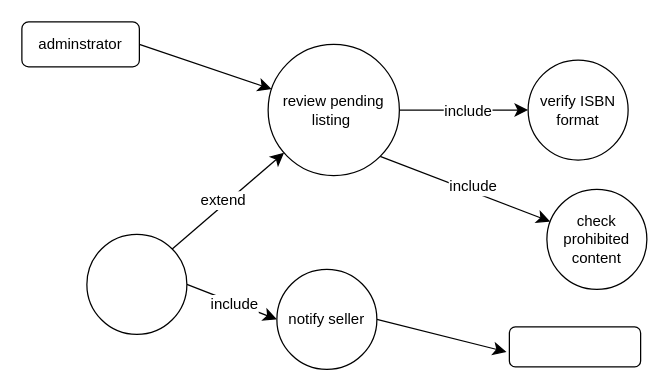
Some shapes in this 669 by 391 pixel diagram are drawn without their labels. Here are the shapes that lost their labels. From the top down, the centre of each, then its label:
the point at 136,283: reject listing
the point at 574,346: seller
